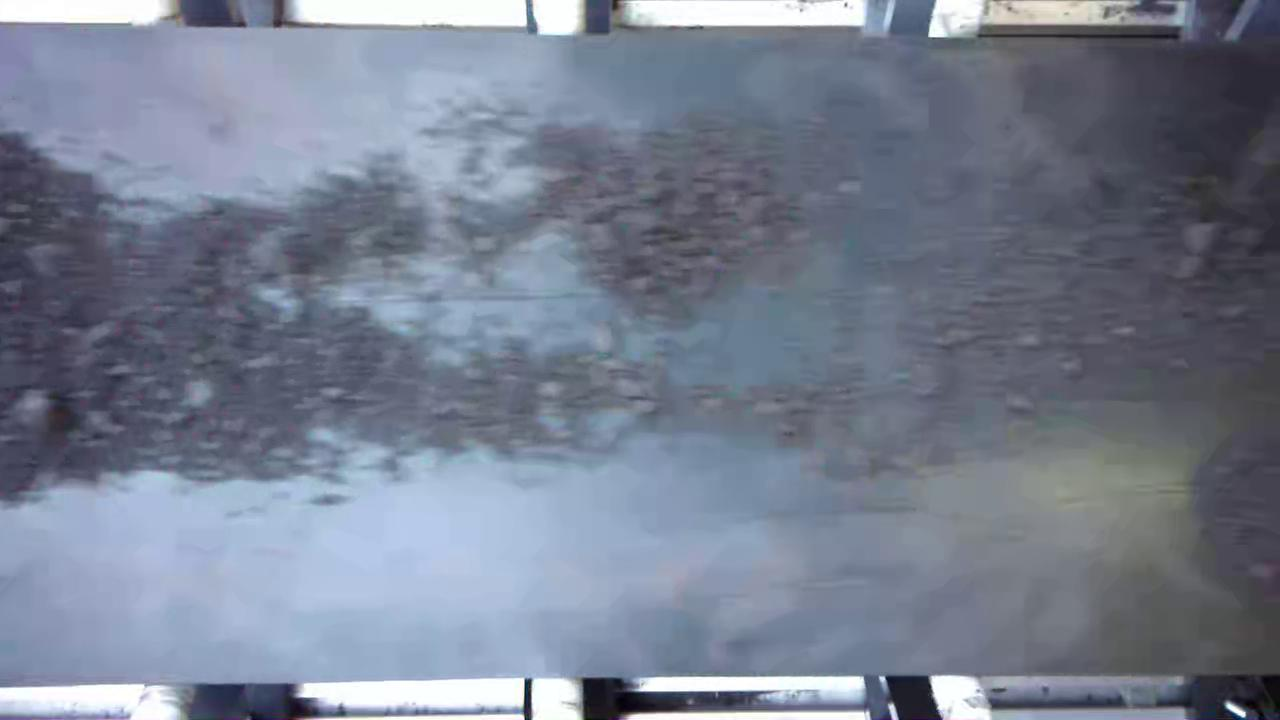conveyor: (6, 47, 1280, 665)
